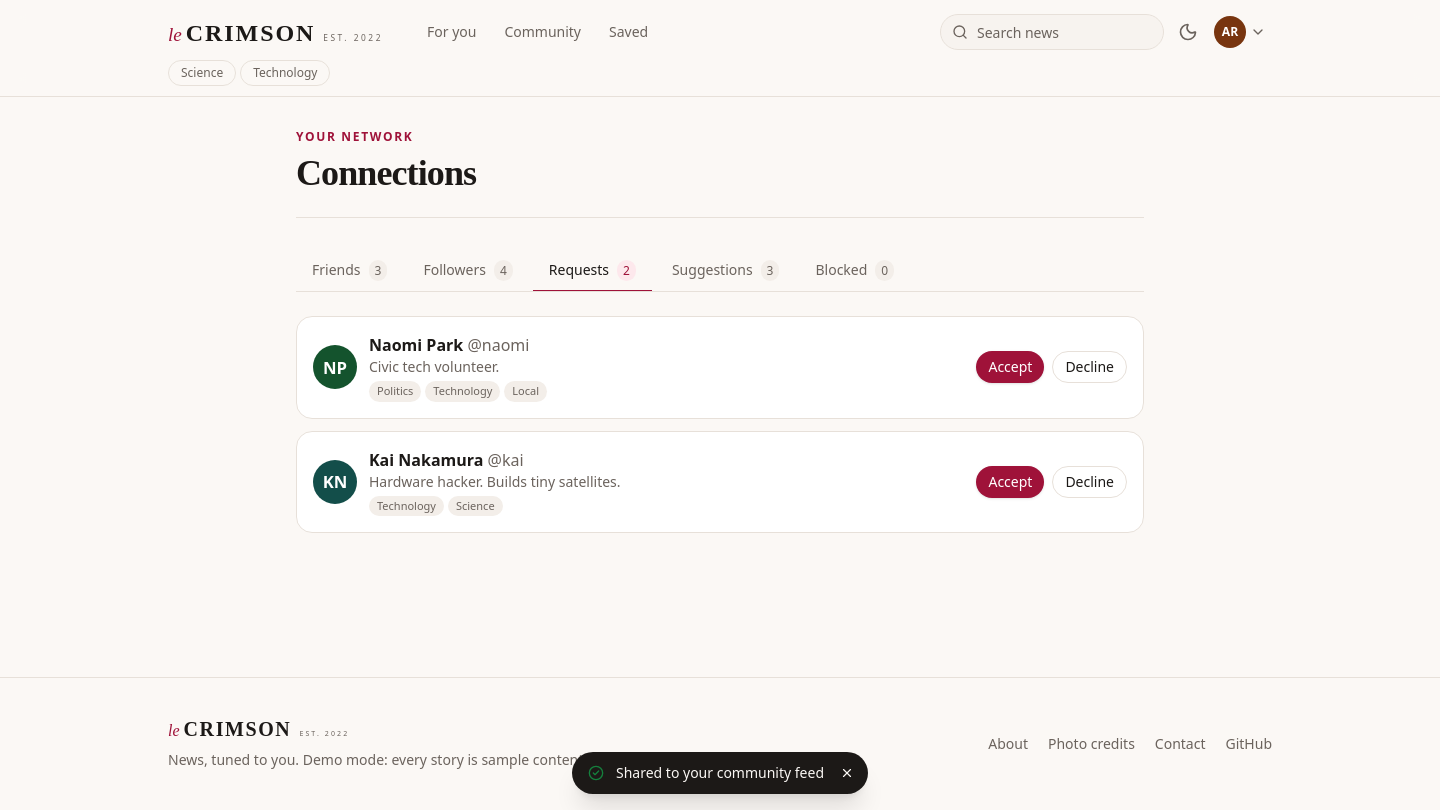
Scenario: app journeys › accepts a friend request
What coordinates should you click on to do the following:
click the button named "accept naomi park"
I would click on:
 (1010, 367)
Its box is [976,351,1044,383].
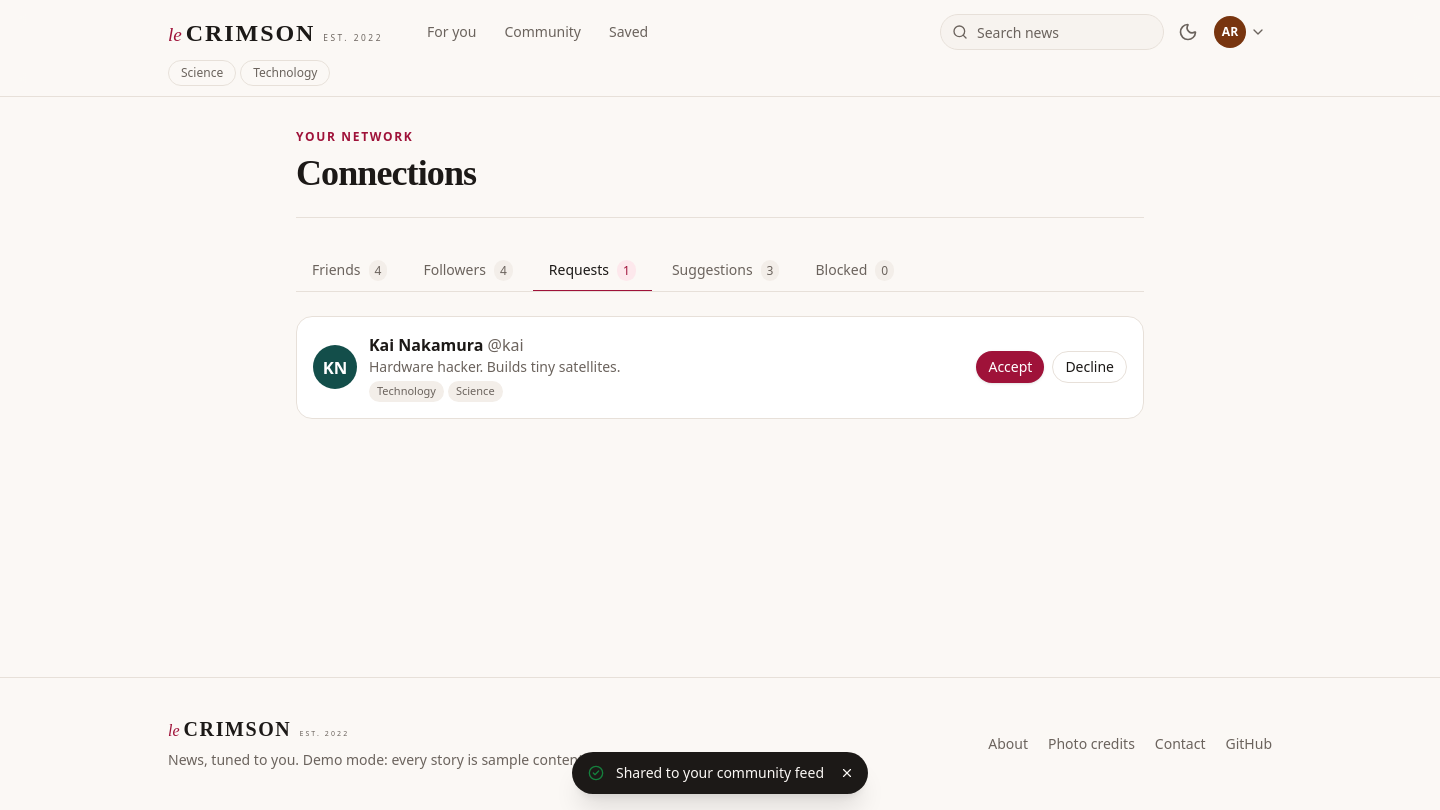
What coordinates should you click on to do the following:
click the tab "Friends4"
I would click on:
 (350, 271)
Its box is [296,250,403,292].
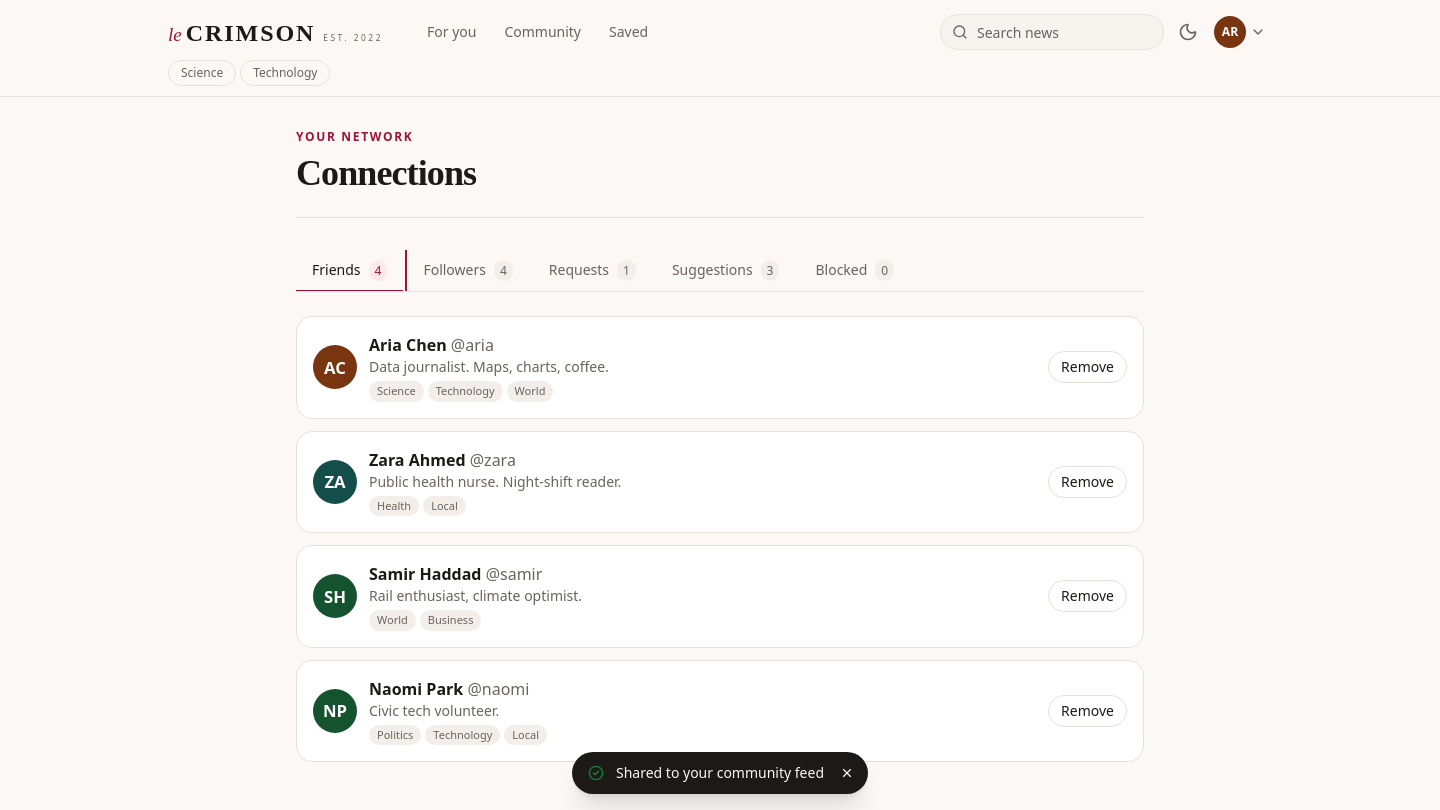
Expected: the text "Naomi Park" is shown, [369,678,463,700]
